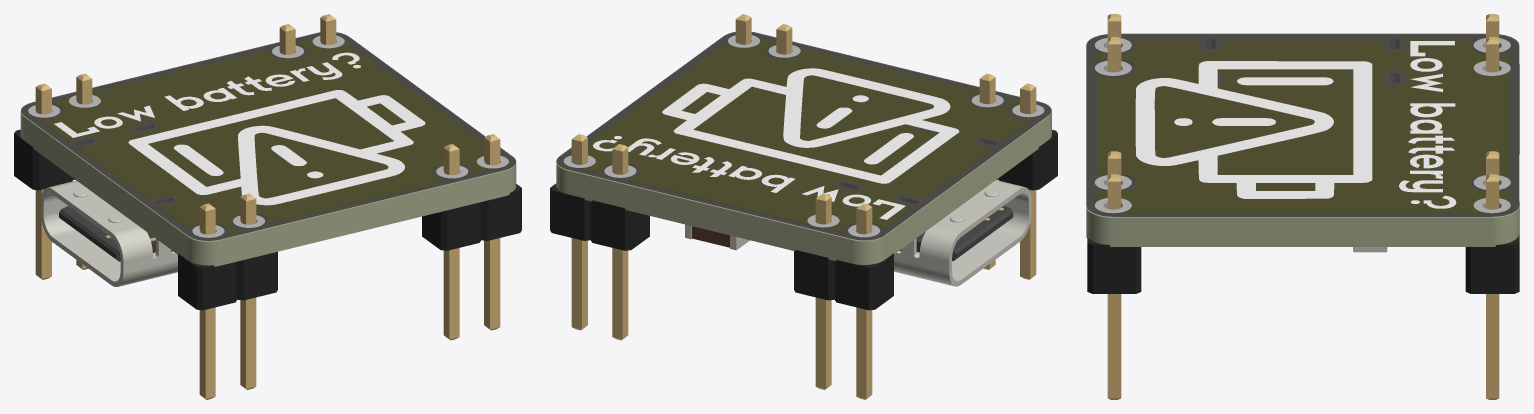
Rendered from charger-minibadge.glb.
3 renders of one model, left to right at view 1: azimuth 30°, elevation 25°; view 2: azimuth 150°, elevation 25°; view 3: azimuth 270°, elevation 25°, orthographic. The views are drawn at different scales.
Visible parts, largest first — view 1: =>[0:1:1:13], =>[0:1:1:10], MB1 (×4), =>[0:1:1:14], =>[0:1:1:12], J1, =>[0:1:1:11]; view 2: =>[0:1:1:13], =>[0:1:1:10], MB1 (×4), =>[0:1:1:14], =>[0:1:1:12], J1, =>[0:1:1:11], C3; view 3: =>[0:1:1:13], =>[0:1:1:10], =>[0:1:1:14], =>[0:1:1:12], MB1 (×4), =>[0:1:1:11].
Part boxes in pixels (box(x1,y1,x2,y2)): =>[0:1:1:13]: box(21, 32, 516, 240); =>[0:1:1:10]: box(41, 39, 500, 232); MB1 (×4): box(14, 14, 521, 399); =>[0:1:1:14]: box(20, 33, 516, 266); =>[0:1:1:12]: box(54, 52, 425, 205); J1: box(41, 180, 177, 286); =>[0:1:1:11]: box(28, 35, 508, 237); =>[0:1:1:13]: box(556, 32, 1051, 240); =>[0:1:1:10]: box(582, 38, 1031, 232); MB1 (×4): box(550, 14, 1057, 399); =>[0:1:1:14]: box(556, 33, 1051, 264); =>[0:1:1:12]: box(593, 68, 959, 219); J1: box(894, 180, 1031, 286); =>[0:1:1:11]: box(563, 35, 1044, 237); C3: box(685, 224, 749, 250); =>[0:1:1:13]: box(1086, 33, 1519, 216); =>[0:1:1:10]: box(1097, 39, 1508, 212); =>[0:1:1:14]: box(1086, 35, 1519, 246); =>[0:1:1:12]: box(1135, 41, 1456, 208); MB1 (×4): box(1087, 14, 1519, 399); =>[0:1:1:11]: box(1094, 37, 1510, 213).
Bounding box in the file's own units: 0.0218 × 0.0115 × 0.0203.
